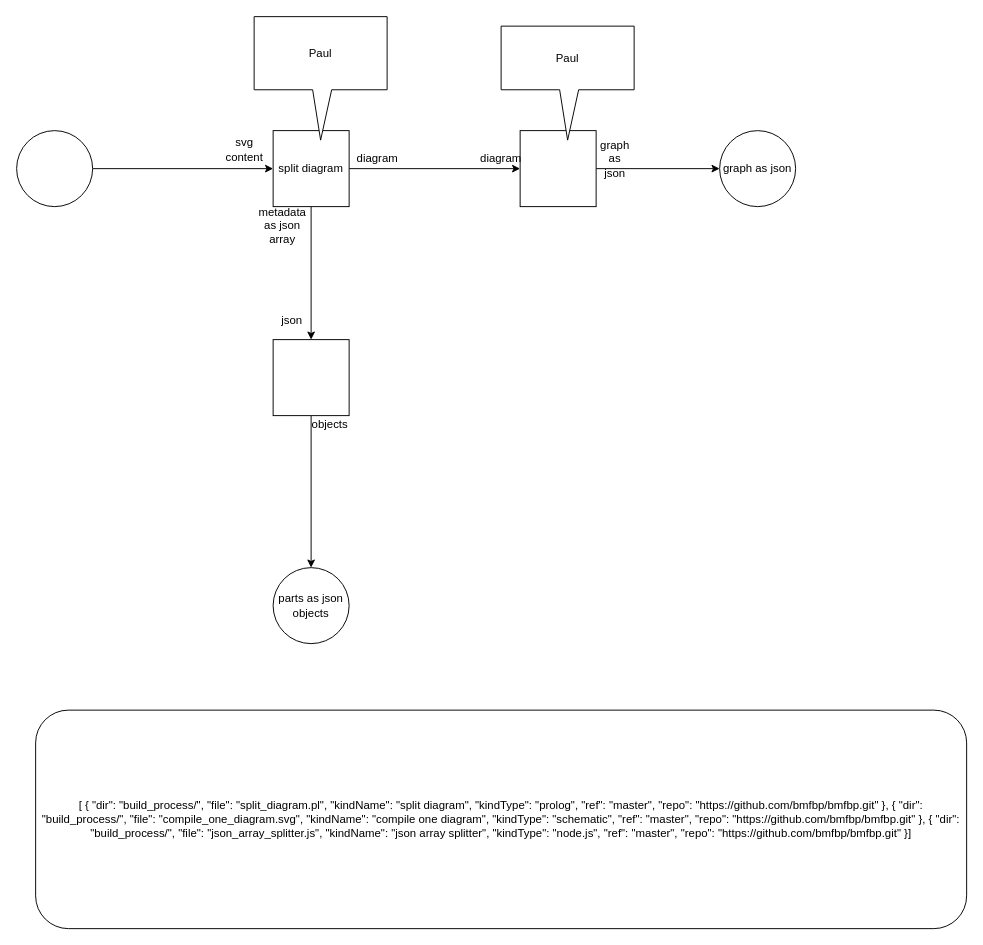
This 983x945 diagram has some shape labels left out. Each missing label, with the centre of its shape:
"compile one diagram" belongs at [557,168].
"json array splitter" belongs at [310,377].
"svg" belongs at [54,168].
